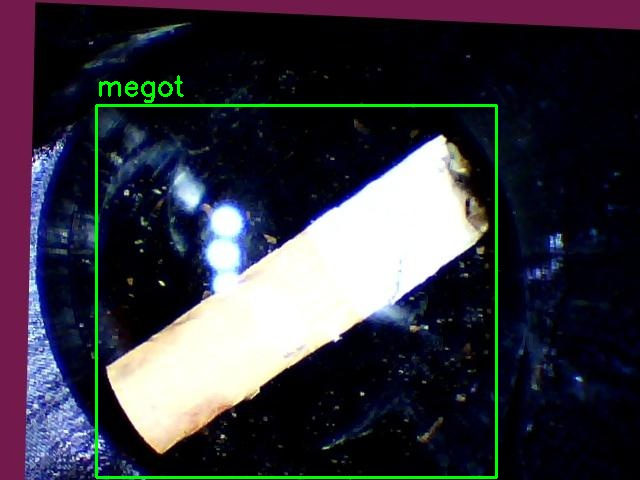megot: (96, 105, 496, 477)
